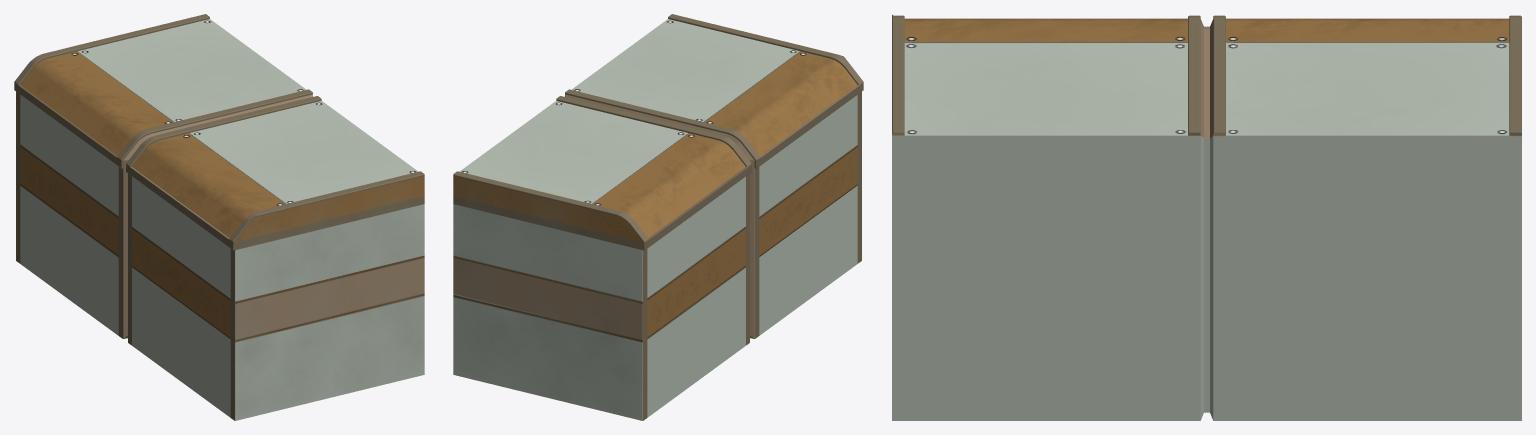
File: SSCContainer3.fbx
The picture shows the model from 3 angles, left to right: view 1: azimuth 30°, elevation 25°; view 2: azimuth 150°, elevation 25°; view 3: azimuth 270°, elevation 25°; orthographic projection. The views are drawn at different scales.
Visible parts, largest first — view 1: SSCContainer3; view 2: SSCContainer3; view 3: SSCContainer3.
Part boxes in pixels (x1,y1,x2,y2): SSCContainer3: [14, 14, 424, 420]; SSCContainer3: [453, 14, 863, 420]; SSCContainer3: [892, 14, 1521, 420].
Bounding box in the file's own units: 101 × 101 × 200.
